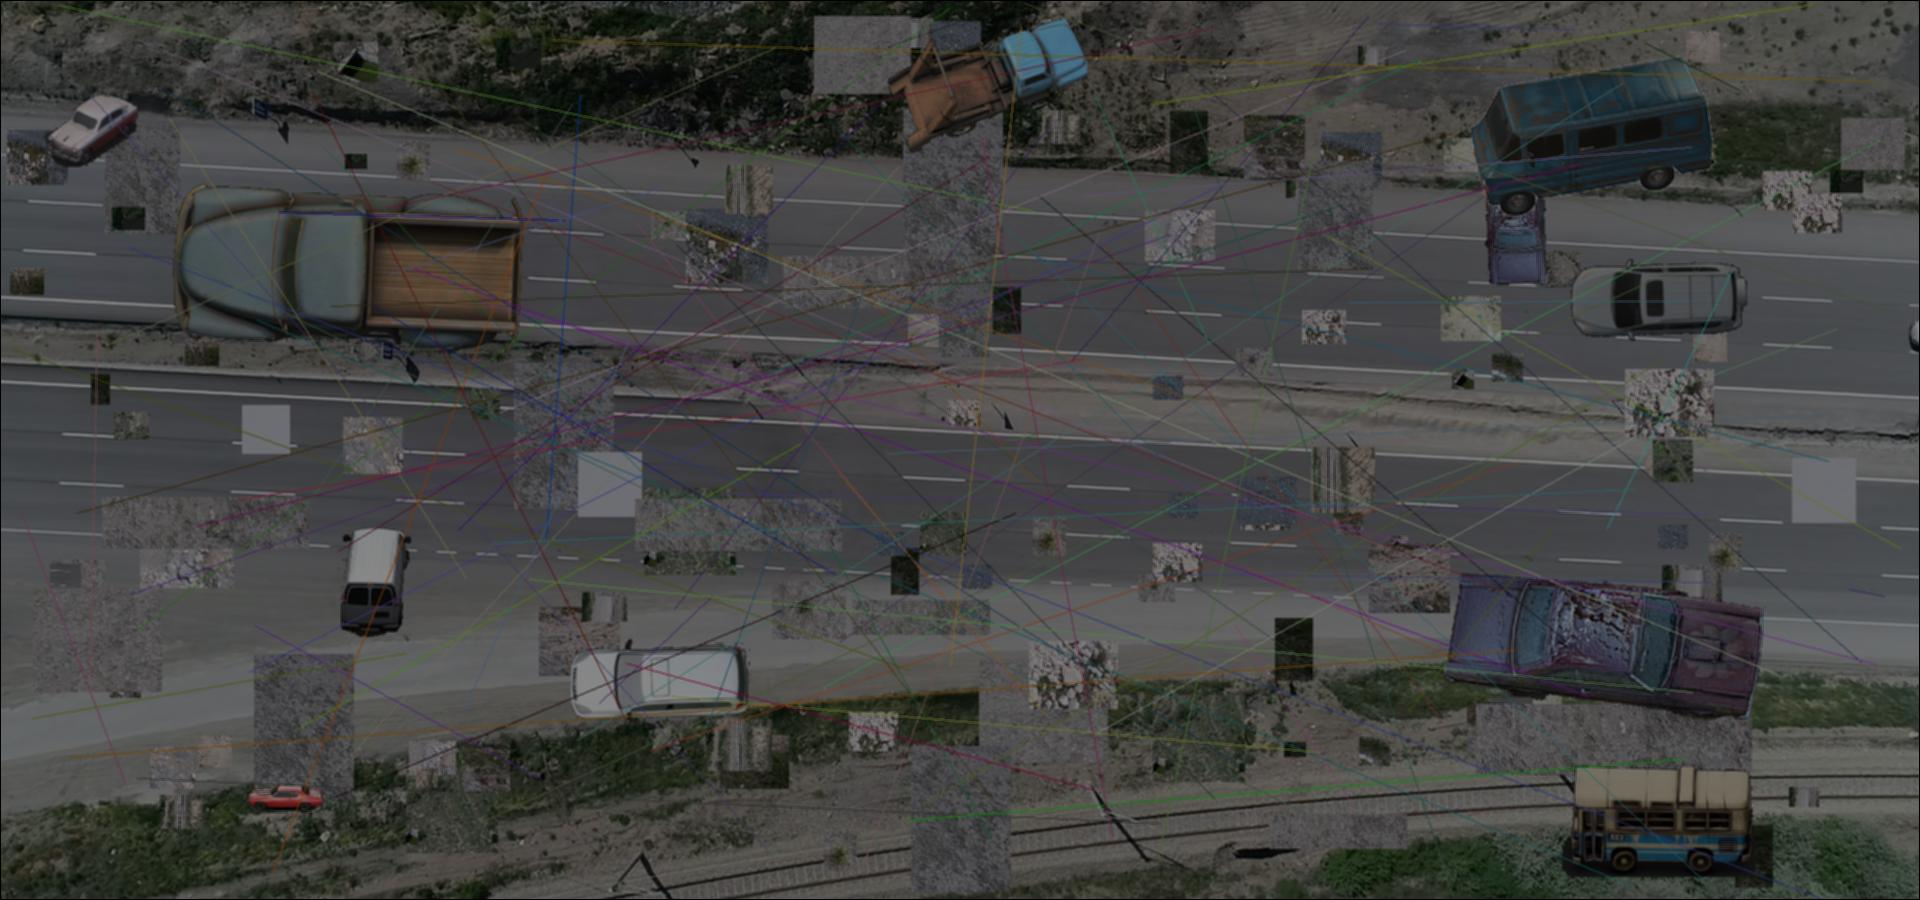arac: (171, 184, 525, 355), (1438, 560, 1767, 731), (1461, 56, 1734, 220), (888, 18, 1087, 154), (1560, 762, 1755, 877), (571, 639, 752, 727), (1567, 253, 1747, 342), (1478, 126, 1551, 289), (337, 524, 411, 637), (43, 91, 141, 167), (244, 782, 324, 813)
